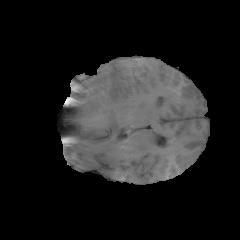glioma: (75, 65, 129, 132)
